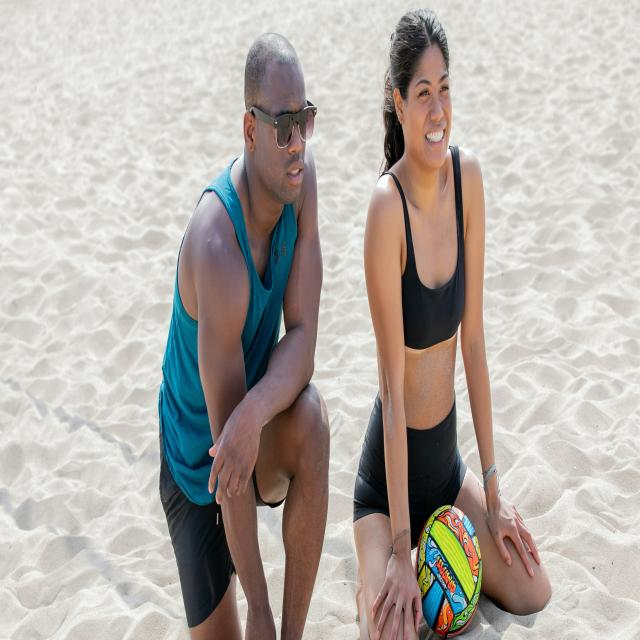adult: (354, 5, 553, 640), (155, 28, 331, 640)
